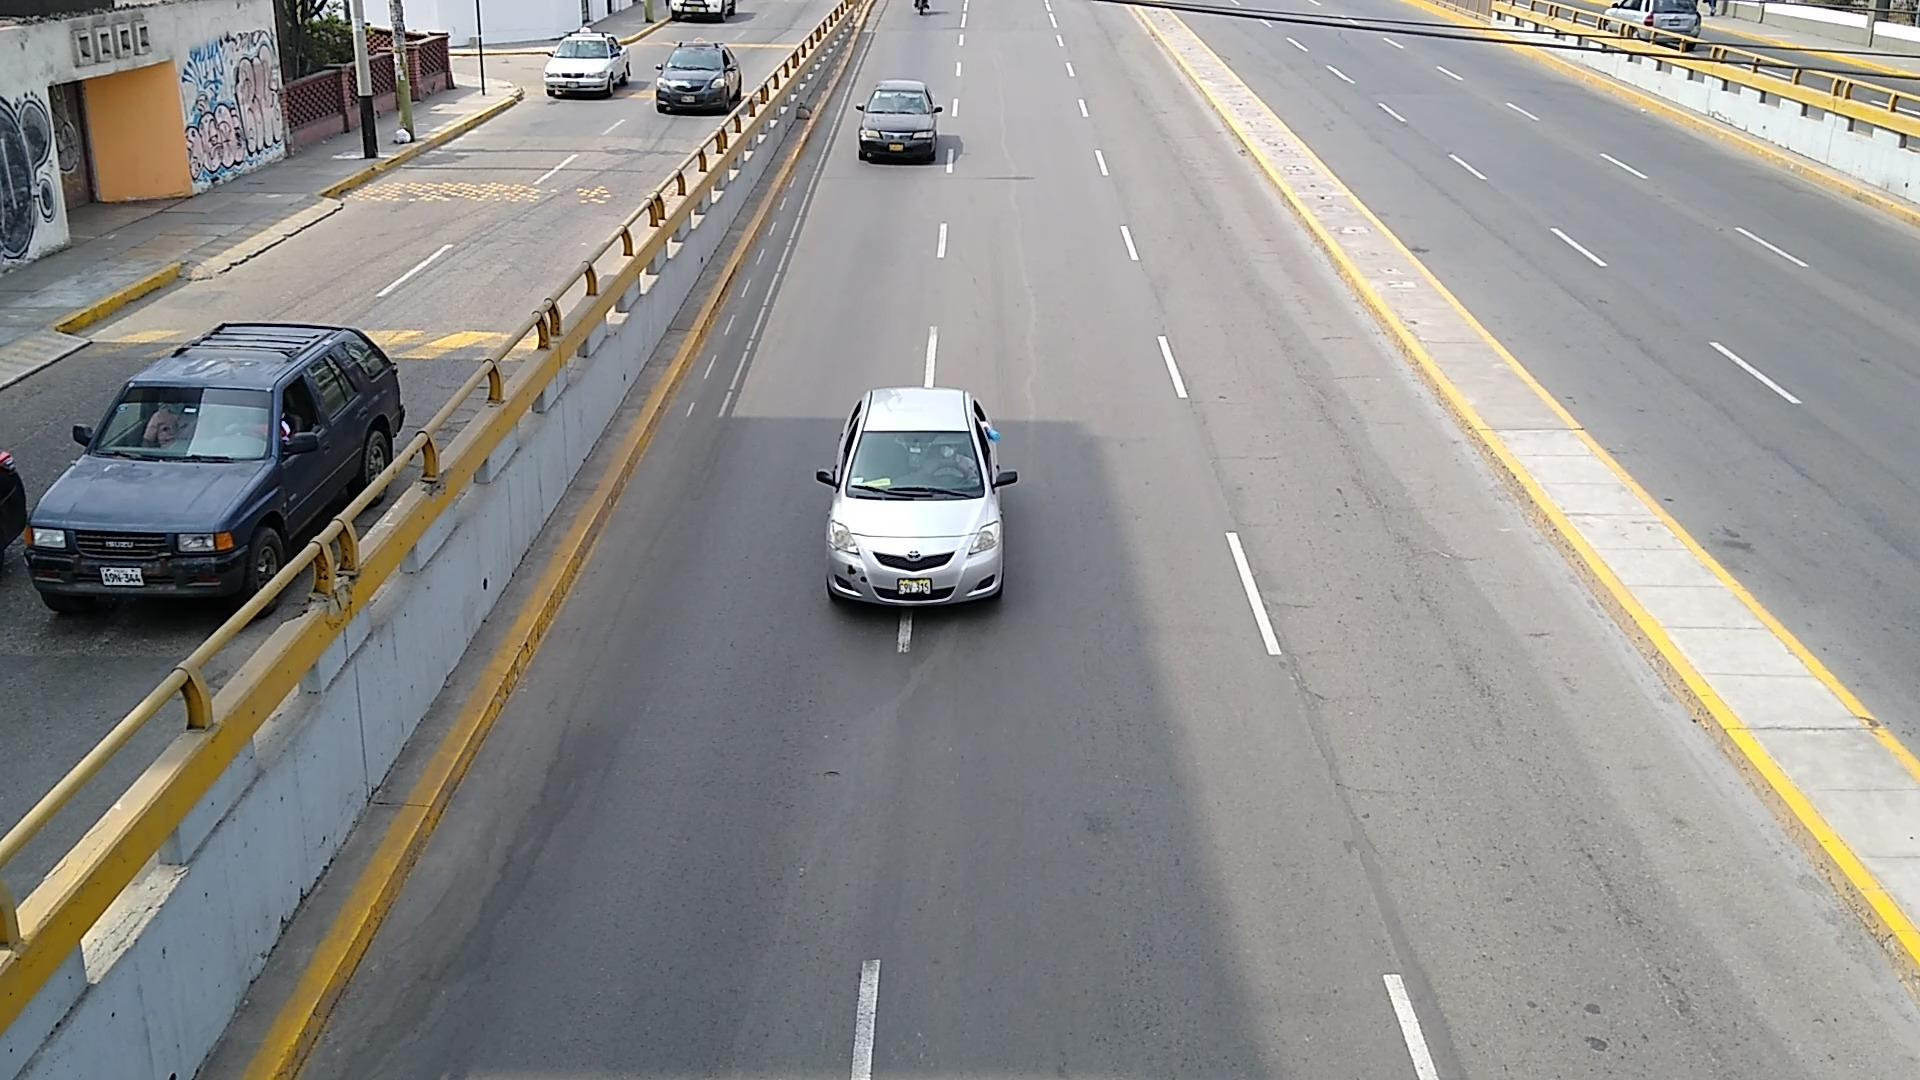car: (26, 323, 405, 612), (818, 386, 1017, 608), (858, 79, 942, 161), (657, 41, 742, 112), (543, 30, 630, 96), (667, 0, 737, 22)
